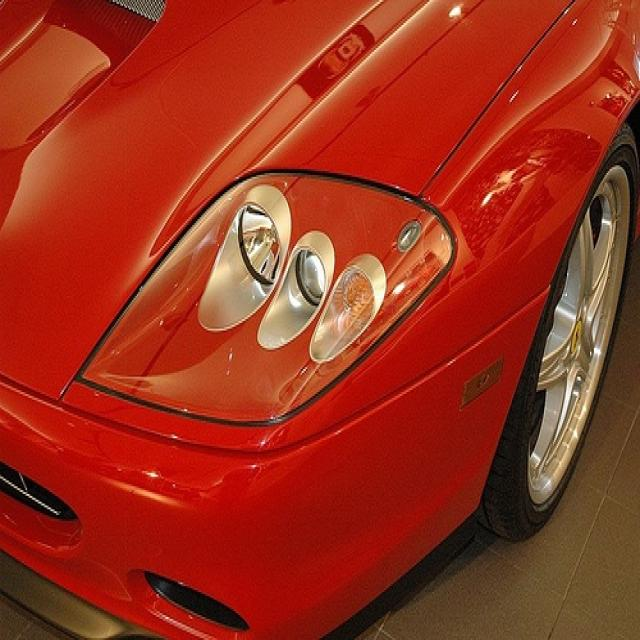car: (1, 4, 638, 638)
